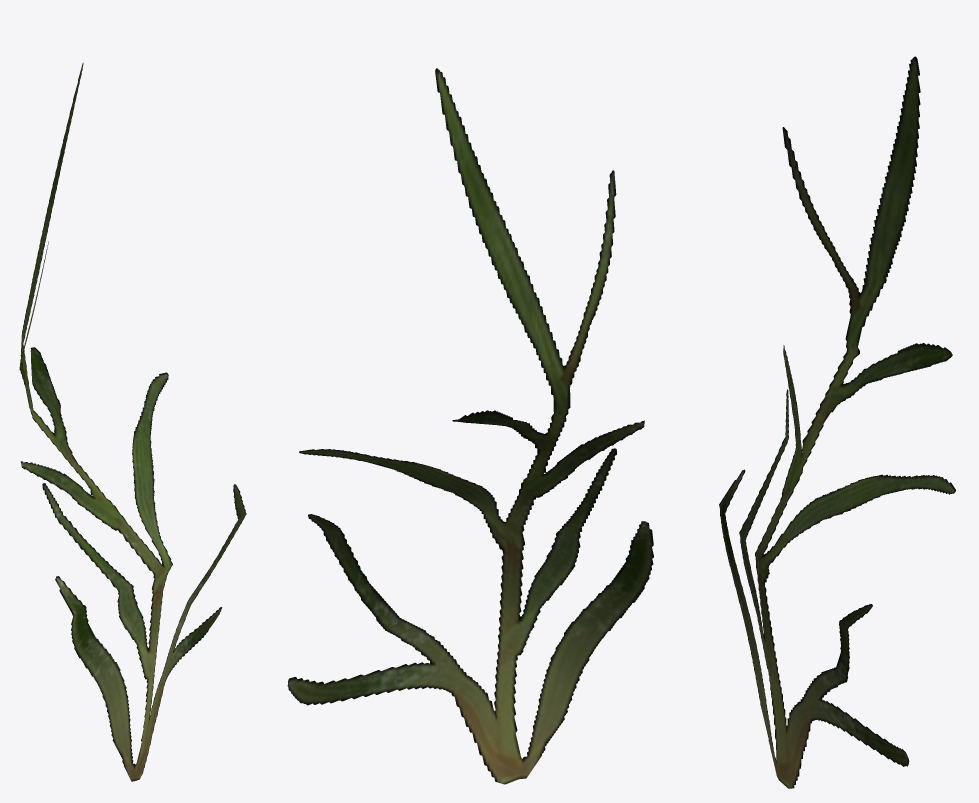
Rendered from grass_bermuda_01.glb.
The picture shows the model from 3 angles, left to right: view 1: azimuth 30°, elevation 25°; view 2: azimuth 150°, elevation 25°; view 3: azimuth 270°, elevation 25°; orthographic projection. The views are drawn at different scales.
Visible parts, largest first — view 1: grass_bermuda_01_medium_a; view 2: grass_bermuda_01_medium_a; view 3: grass_bermuda_01_medium_a.
Part boxes in pixels (x1,y1,x2,y2): grass_bermuda_01_medium_a: [19, 62, 246, 781]; grass_bermuda_01_medium_a: [287, 68, 653, 784]; grass_bermuda_01_medium_a: [719, 56, 955, 788].
Bounding box in the file's own units: 0.0385 × 0.0978 × 0.0286.
1 material, 1 textured.
